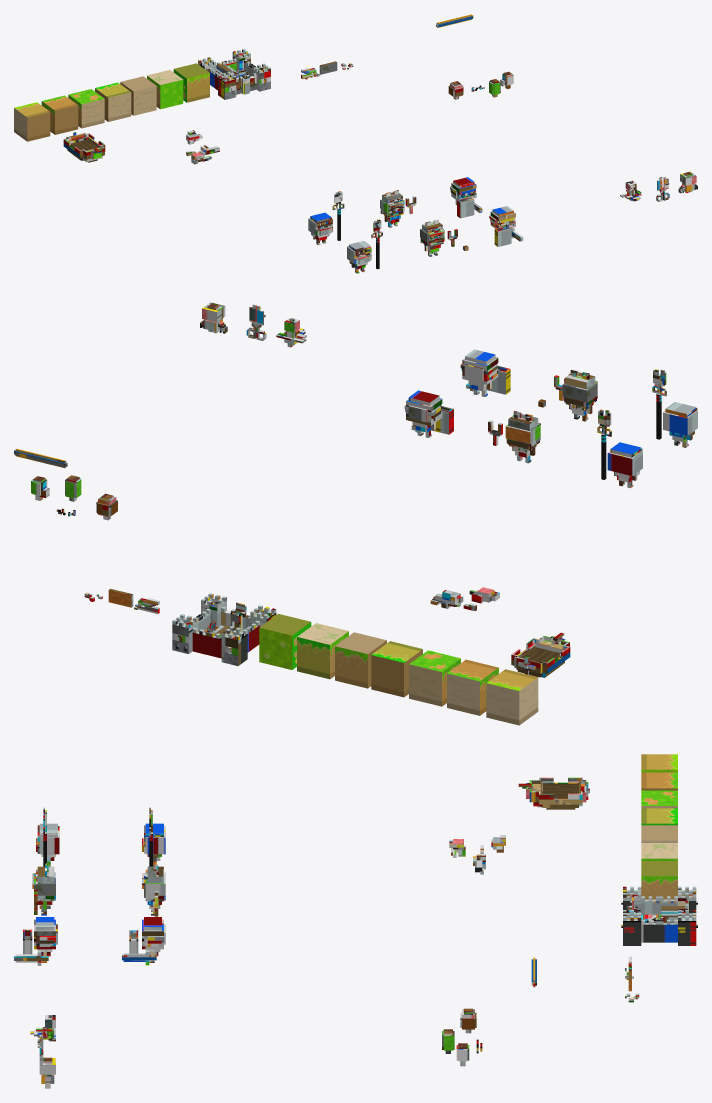
The model's file is IslandsOfRPS.dae.
The picture shows the model from 3 angles, top to bottom: view 1: azimuth 30°, elevation 25°; view 2: azimuth 150°, elevation 25°; view 3: azimuth 270°, elevation 25°; orthographic projection. The views are drawn at different scales.
Visible parts, largest first — view 1: TownCenter, SandTile1, SandTile0, GrassTile3, GrassTile1, DirtTile0, GrassTile2, GrassTile0, Boat, EnemyRockSoldier_Body, RockSoldier_Body, ScissorSoldier_Body (+4 smaller); view 2: TownCenter, SandTile1, SandTile0, DirtTile0, GrassTile3, GrassTile2, GrassTile1, GrassTile0, Boat, RockSoldier_Body, EnemyRockSoldier_Body, PaperSoldier_Body (+4 smaller); view 3: TownCenter, Boat, DirtTile0, RockSoldier_Body, EnemyRockSoldier_Body, PaperSoldier_Body, EnemyPaperSoldier_Body, GrassTile2, SandTile0, SandTile1, ScissorSoldier_Body, GrassTile3 (+3 smaller).
Boxes of the visible parts, x1,y1,x2,y2 form: TownCenter: (198, 49, 270, 99); SandTile1: (14, 102, 50, 141); SandTile0: (41, 95, 78, 134); GrassTile3: (95, 82, 131, 121); GrassTile1: (147, 70, 183, 109); DirtTile0: (173, 63, 209, 102); GrassTile2: (68, 89, 104, 128); GrassTile0: (120, 76, 156, 115); Boat: (63, 133, 105, 162); EnemyRockSoldier_Body: (380, 190, 404, 224); RockSoldier_Body: (420, 219, 444, 253); ScissorSoldier_Body: (347, 241, 371, 269); TownCenter: (172, 593, 276, 665); SandTile1: (486, 669, 538, 725); SandTile0: (447, 659, 498, 715); DirtTile0: (259, 613, 311, 669); GrassTile3: (371, 641, 422, 697); GrassTile2: (409, 650, 460, 706); GrassTile1: (297, 623, 348, 679); GrassTile0: (335, 632, 386, 688); Boat: (511, 632, 570, 677); RockSoldier_Body: (562, 369, 597, 415); EnemyRockSoldier_Body: (505, 411, 540, 457); PaperSoldier_Body: (460, 349, 498, 391); TownCenter: (621, 886, 697, 945); Boat: (518, 777, 586, 809); DirtTile0: (641, 861, 677, 899); RockSoldier_Body: (32, 862, 55, 911); EnemyRockSoldier_Body: (142, 862, 165, 911); PaperSoldier_Body: (34, 917, 57, 956); EnemyPaperSoldier_Body: (142, 917, 165, 956); GrassTile2: (641, 790, 677, 808); SandTile0: (641, 772, 677, 790); SandTile1: (641, 754, 677, 772); ScissorSoldier_Body: (36, 823, 59, 860); GrassTile3: (641, 808, 677, 825).
Size of the model in its own units: 392 by 47 by 374.
1 material, 1 textured.
